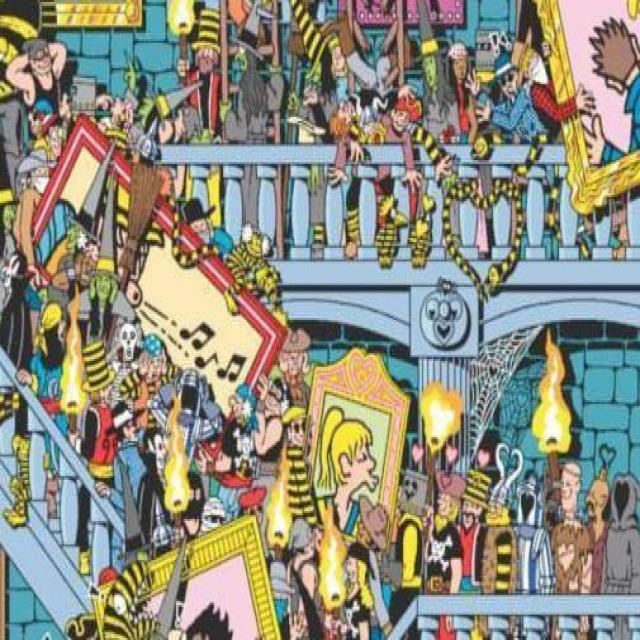waldo: (37, 111, 62, 158)
